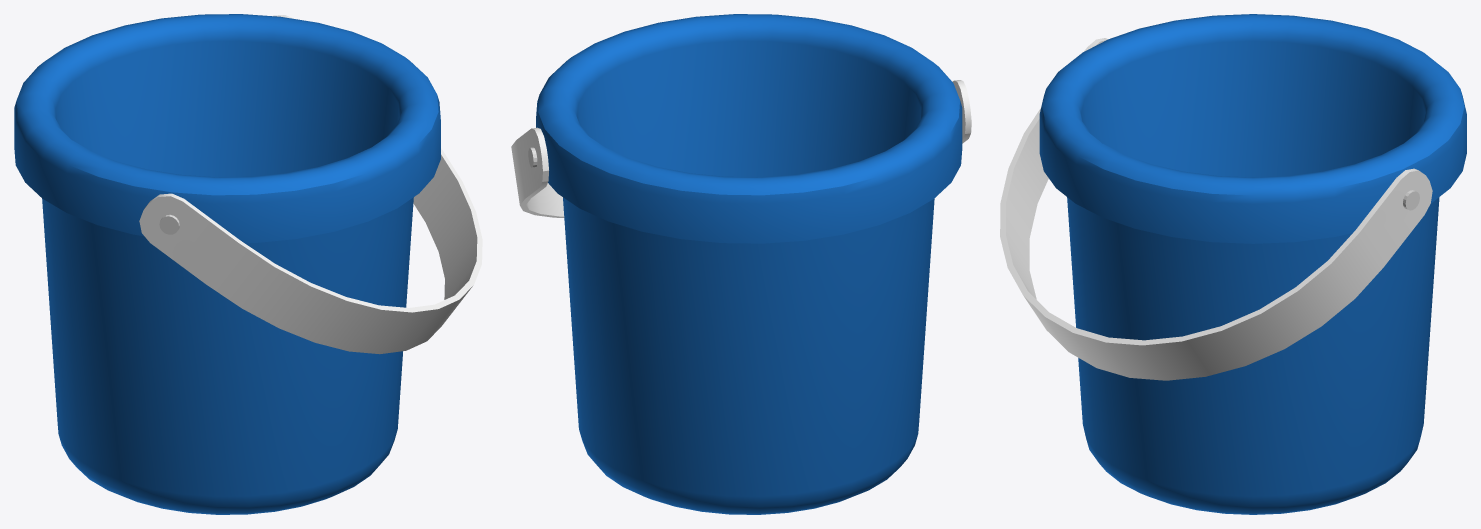
File: bucket.fbx
The picture shows the model from 3 angles, left to right: view 1: azimuth 30°, elevation 25°; view 2: azimuth 150°, elevation 25°; view 3: azimuth 270°, elevation 25°; orthographic projection.
Visible parts, largest first — view 1: Circle.2608; view 2: Circle.2608; view 3: Circle.2608.
Part boxes in pixels (x1=…): Circle.2608: x1=14, y1=14, x2=482, y2=514; Circle.2608: x1=511, y1=14, x2=971, y2=514; Circle.2608: x1=1000, y1=14, x2=1466, y2=514.
Size of the model in its own units: 206 by 174 by 206.
Materials: 1 (1 with a texture image).
